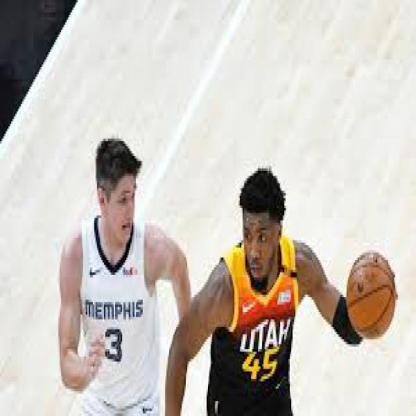basketball: (345, 250, 398, 344)
